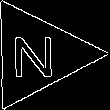N_N: (14, 29, 61, 80)
